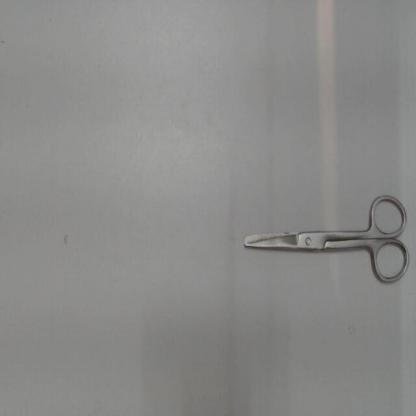Dressing Scissors: (237, 188, 415, 296)
